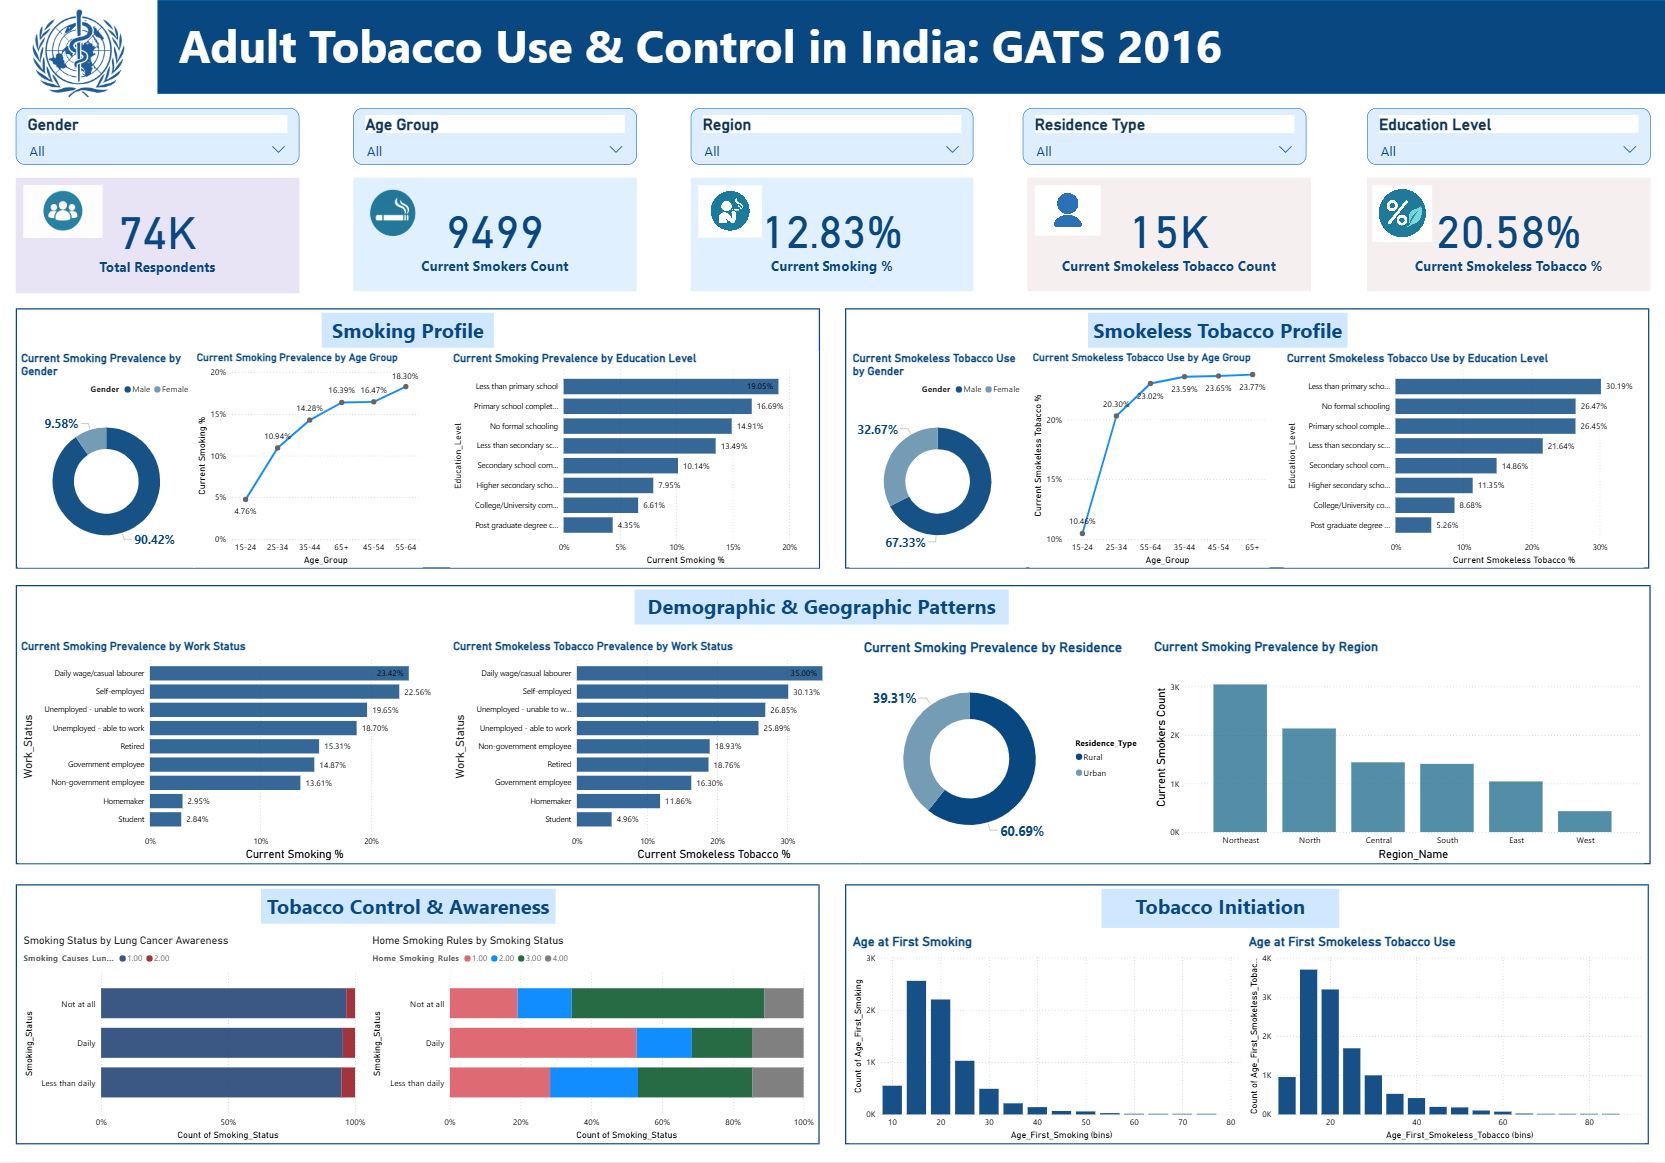

The dashboard page shown, as its layout file describes it:
{"tool":"powerbi","page":{"name":"Page 1","canvas":[2650,1845],"ordinal":0},"visuals":[{"type":"shape","box":[1343.3,490,1276.7,413.3],"z":0},{"type":"shape","box":[23.3,490,1276.7,413.3],"z":1000},{"type":"card","fields":{"Values":["healthcare.Curren Smoking %"]},"box":[1096.7,282,450,180],"z":2000},{"type":"card","fields":{"Values":["healthcare.Current Smokeless Tobacco %"]},"box":[2170,282,450,180],"z":3000},{"type":"card","fields":{"Values":["healthcare.Total Respondents"]},"box":[23.3,282,450,183.3],"z":4000},{"type":"card","fields":{"Values":["healthcare.Current Smokers"]},"box":[560,282,450,180],"z":5000},{"type":"card","fields":{"Values":["healthcare.Current Smokeless Tobacco Count"]},"box":[1633.3,282,450,180],"z":6000},{"type":"donutChart","title":"Current Smoking Prevalence by Gender","fields":{"Category":["healthcare.Gender"],"Y":["healthcare.Current Smoking %"]},"box":[27.7,557.4,280.5,344],"z":7000},{"type":"lineChart","title":"Current Smoking Prevalence by Age Group","fields":{"Category":["healthcare.Age_Group"],"Y":["healthcare.Curren Smoking %"]},"box":[308.1,557.4,363.5,344],"z":8000},{"type":"clusteredBarChart","title":"Current Smoking Prevalence by Education Level","fields":{"Category":["healthcare.Education_Level"],"Y":["healthcare.Curren Smoking %"]},"box":[713.2,557.4,585.1,344],"z":9000},{"type":"donutChart","title":"Current Smokeless Tobacco Use by Gender","fields":{"Category":["healthcare.Gender"],"Y":["healthcare.Current Smokeless Tobacco %"]},"box":[1350,556,280,344],"z":10000},{"type":"lineChart","title":"Current Smokeless Tobacco Use by Age Group","fields":{"Y":["healthcare.Current Smokeless Tobacco %"],"Category":["healthcare.Age_Group"]},"box":[1634.2,557.4,380.9,344],"z":11000},{"type":"clusteredBarChart","title":"Current Smokeless Tobacco Use by Education Level","fields":{"Category":["healthcare.Education_Level"],"Y":["healthcare.Current Smokeless Tobacco %"]},"box":[2039.3,557.4,571.3,344],"z":12000},{"type":"slicer","fields":{"Values":["healthcare.Gender"]},"box":[23.3,170,450,90],"z":13000},{"type":"slicer","fields":{"Values":["healthcare.Age_Group"]},"box":[560,170,450,90],"z":14000},{"type":"slicer","fields":{"Values":["healthcare.Region_Name"]},"box":[1096.7,170,450,90],"z":15000},{"type":"slicer","fields":{"Values":["healthcare.Residence_Type"]},"box":[1626.7,170,450,90],"z":16000},{"type":"slicer","fields":{"Values":["healthcare.Education_Level"]},"box":[2170,170,450,90],"z":17000},{"type":"shape","box":[23.3,930,2596.7,443.3],"z":18000},{"type":"clusteredBarChart","title":"Current Smoking Prevalence by Work Status","fields":{"Category":["healthcare.Work_Status"],"Y":["healthcare.Current Smoking %"]},"box":[28.6,1014.3,685.7,356],"z":19000},{"type":"donutChart","title":"Current Smoking Prevalence by Residence","fields":{"Category":["healthcare.Residence_Type"],"Y":["healthcare.Current Smoking %"]},"box":[1367.6,1014.5,460.5,356],"z":20000},{"type":"clusteredColumnChart","title":"Current Smoking Prevalence by Region","fields":{"Category":["healthcare.Region_Name"],"Y":["healthcare.Current Smokers Count"]},"box":[1828.1,1014.5,782.5,356],"z":21000},{"type":"shape","box":[26.3,1405,1276,413],"z":22000},{"type":"shape","box":[1343.7,1403.7,1276.1,412.9],"z":23000},{"type":"hundredPercentStackedBarChart","title":"Home Smoking Rules by Smoking Status","fields":{"Y":["CountNonNull(healthcare.Smoking_Status)"],"Category":["healthcare.Smoking_Status"],"Series":["healthcare.Home_Smoking_Rules"]},"box":[585.7,1482.1,712,332.1],"z":24000},{"type":"hundredPercentStackedBarChart","title":"Smoking Status by Lung Cancer Awareness","fields":{"Category":["healthcare.Smoking_Status"],"Y":["CountNonNull(healthcare.Smoking_Status)"],"Series":["healthcare.Smoking_Causes_Lung_Cancer"]},"box":[32.1,1482.1,553.6,332.1],"z":25000},{"type":"barChart","title":"Current Smokeless Tobacco Prevalence by Work Status","fields":{"Y":["healthcare.Current Smokeless Tobacco %"],"Category":["healthcare.Work_Status"]},"box":[714.3,1014.3,653.6,356],"z":26000},{"type":"clusteredColumnChart","title":"Age at First Smoking","fields":{"Category":["healthcare.Age_First_Smoking (bins)"],"Y":["CountNonNull(healthcare.Age_First_Smoking)"]},"box":[1350.3,1481.9,626.7,332.4],"z":27000},{"type":"clusteredColumnChart","title":"Age at First Smokeless Tobacco Use","fields":{"Category":["healthcare.Age_First_Smokeless_Tobacco (bins)"],"Y":["CountNonNull(healthcare.Age_First_Smokeless_Tobacco)"]},"box":[1977,1481.9,633.6,332.4],"z":28000},{"type":"textbox","box":[512.4,495.1,273.5,55.4],"z":29000},{"type":"textbox","box":[1727.7,495,412,55.4],"z":30000},{"type":"textbox","box":[1007.5,934,595.5,55.4],"z":31000},{"type":"textbox","box":[415.5,1409,467.4,55.4],"z":32000},{"type":"textbox","box":[1748.5,1409,377.4,62.3],"z":33000},{"type":"shape","box":[249.3,0,2399.4,148.9],"z":34000},{"type":"textbox","box":[277,17.3,1977,114.3],"z":35000},{"type":"image","box":[0,0,249.3,169.7],"z":36000},{"type":"image","box":[517,285.7,210.7,107.1],"z":37000},{"type":"image","box":[32.1,260.7,135.7,150],"z":38000},{"type":"image","box":[2176,291,105,100],"z":39000},{"type":"image","box":[1102,289,110.7,92.9],"z":40000},{"type":"image","box":[1640,289,114.3,90],"z":41000}]}

Visuals, with their boxes in screenshot pixels (x1, y1, x2, y2), scaled from the page's 2650x1845 canvas onto the 1665x1163 screenshot:
shape: (844, 309, 1646, 569)
shape: (15, 309, 817, 569)
card - healthcare.Curren Smoking %: (689, 178, 972, 291)
card - healthcare.Current Smokeless Tobacco %: (1363, 178, 1646, 291)
card - healthcare.Total Respondents: (15, 178, 297, 293)
card - healthcare.Current Smokers: (352, 178, 635, 291)
card - healthcare.Current Smokeless Tobacco Count: (1026, 178, 1309, 291)
"Current Smoking Prevalence by Gender" donutChart: (17, 351, 194, 568)
"Current Smoking Prevalence by Age Group" lineChart: (194, 351, 422, 568)
"Current Smoking Prevalence by Education Level" clusteredBarChart: (448, 351, 816, 568)
"Current Smokeless Tobacco Use by Gender" donutChart: (848, 350, 1024, 567)
"Current Smokeless Tobacco Use by Age Group" lineChart: (1027, 351, 1266, 568)
"Current Smokeless Tobacco Use by Education Level" clusteredBarChart: (1281, 351, 1640, 568)
slicer - healthcare.Gender: (15, 107, 297, 164)
slicer - healthcare.Age_Group: (352, 107, 635, 164)
slicer - healthcare.Region_Name: (689, 107, 972, 164)
slicer - healthcare.Residence_Type: (1022, 107, 1305, 164)
slicer - healthcare.Education_Level: (1363, 107, 1646, 164)
shape: (15, 586, 1646, 866)
"Current Smoking Prevalence by Work Status" clusteredBarChart: (18, 639, 449, 864)
"Current Smoking Prevalence by Residence" donutChart: (859, 639, 1149, 864)
"Current Smoking Prevalence by Region" clusteredColumnChart: (1149, 639, 1640, 864)
shape: (17, 886, 818, 1146)
shape: (844, 885, 1646, 1145)
"Home Smoking Rules by Smoking Status" hundredPercentStackedBarChart: (368, 934, 815, 1144)
"Smoking Status by Lung Cancer Awareness" hundredPercentStackedBarChart: (20, 934, 368, 1144)
"Current Smokeless Tobacco Prevalence by Work Status" barChart: (449, 639, 859, 864)
"Age at First Smoking" clusteredColumnChart: (848, 934, 1242, 1144)
"Age at First Smokeless Tobacco Use" clusteredColumnChart: (1242, 934, 1640, 1144)
textbox: (322, 312, 494, 347)
textbox: (1086, 312, 1344, 347)
textbox: (633, 589, 1007, 624)
textbox: (261, 888, 555, 923)
textbox: (1099, 888, 1336, 927)
shape: (157, 0, 1664, 94)
textbox: (174, 11, 1416, 83)
image: (0, 0, 157, 107)
image: (325, 180, 457, 248)
image: (20, 164, 105, 259)
image: (1367, 183, 1433, 246)
image: (692, 182, 762, 241)
image: (1030, 182, 1102, 239)
